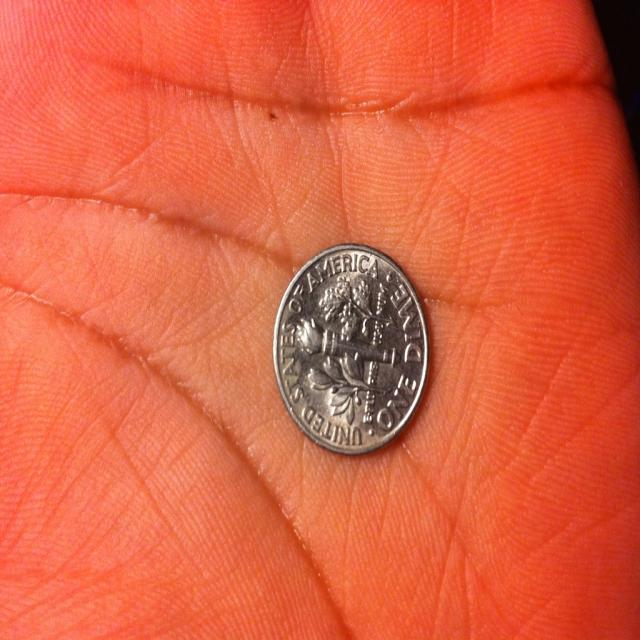Coin: (272, 238, 428, 454)
